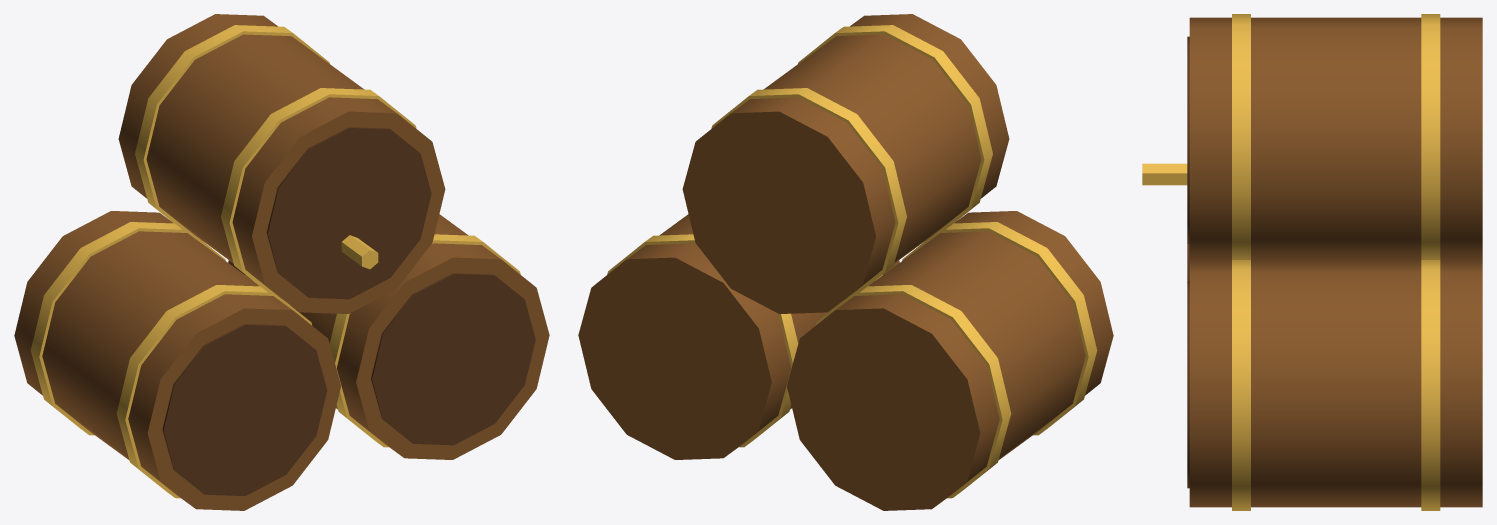
The model's file is PR_Decor_AltinFici.fbx.
3 views of the same model, side by side, from view 1: azimuth 30°, elevation 25°; view 2: azimuth 150°, elevation 25°; view 3: azimuth 270°, elevation 25° (orthographic). The views are drawn at different scales.
Parts seen in each view (by area): view 1: PR_Decor_AltinFici; view 2: PR_Decor_AltinFici; view 3: PR_Decor_AltinFici.
Part boxes in pixels (left/top/right/bottom): PR_Decor_AltinFici: left=14, top=14, right=549, bottom=510; PR_Decor_AltinFici: left=578, top=14, right=1113, bottom=510; PR_Decor_AltinFici: left=1142, top=14, right=1482, bottom=510.
Bounding box in the file's own units: 1.1 × 0.976 × 0.72.
Materials: 1 (1 with a texture image).
